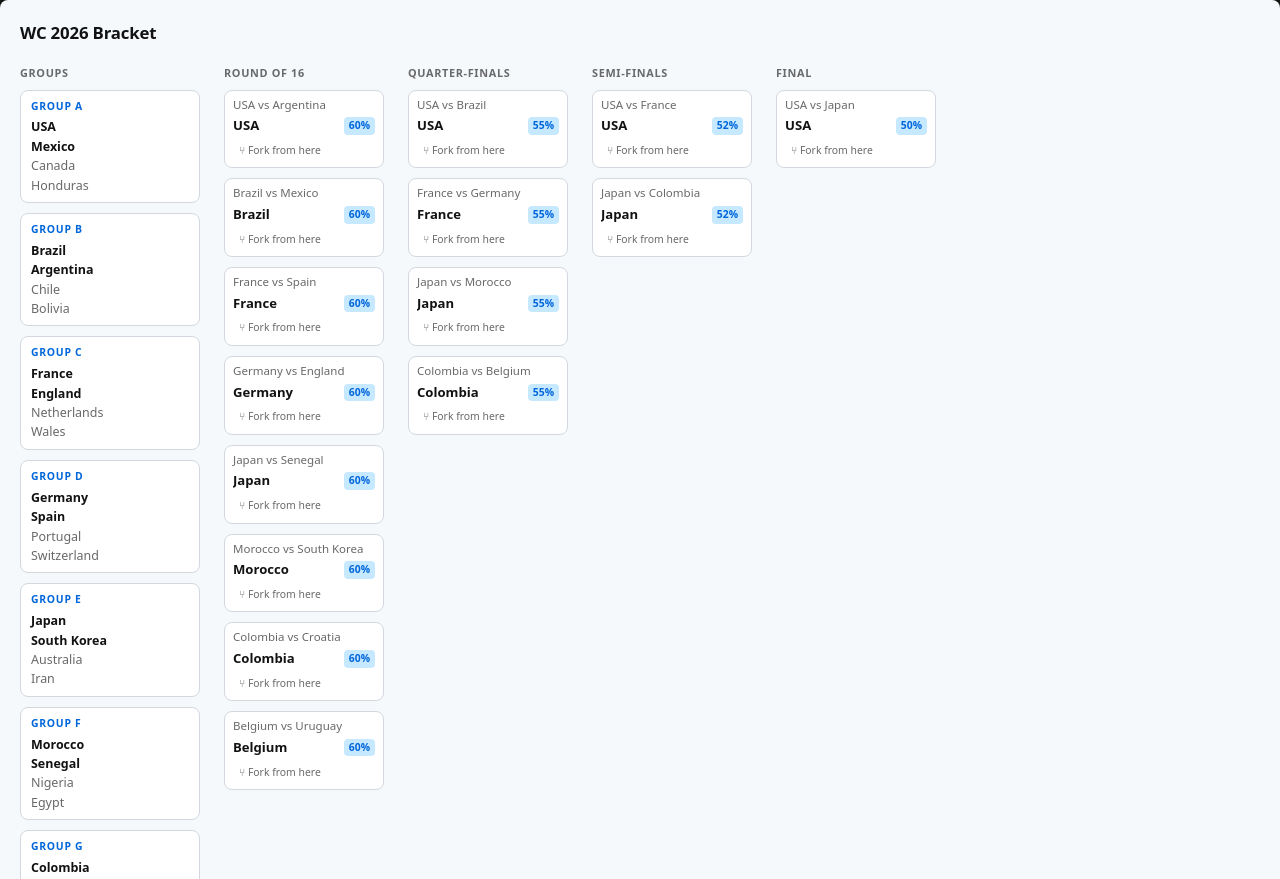
Test: BracketFork — override propagates downstream › updates QF slot teams when R16 winner is overridden
This screenshot has width=1280, height=879.
Click the button with aria-label "Fork from here: USA vs Argentina" at (280, 150), box [233,140,327,161]
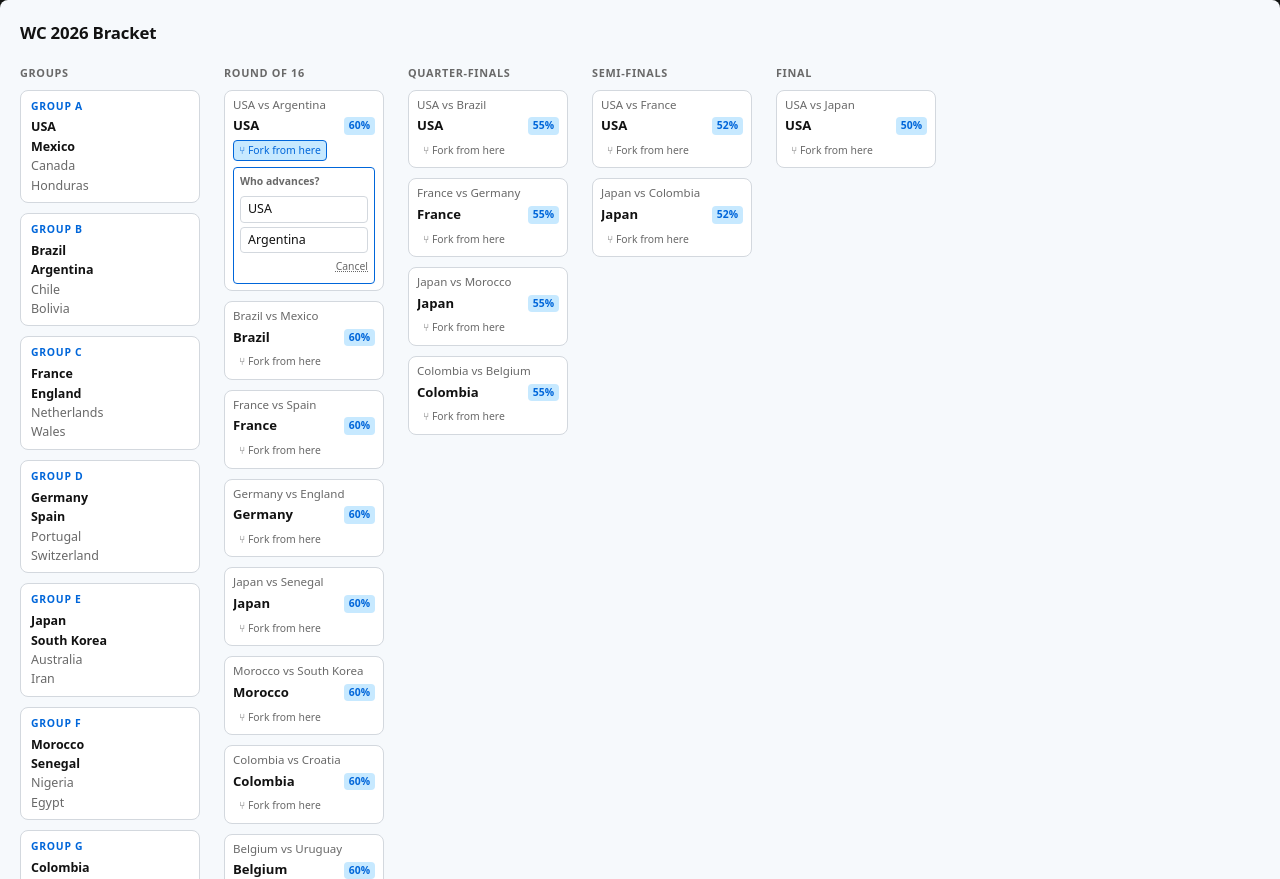
Click the button with test id "pick-r16:0-away" at (304, 240), box [240,227,368,253]
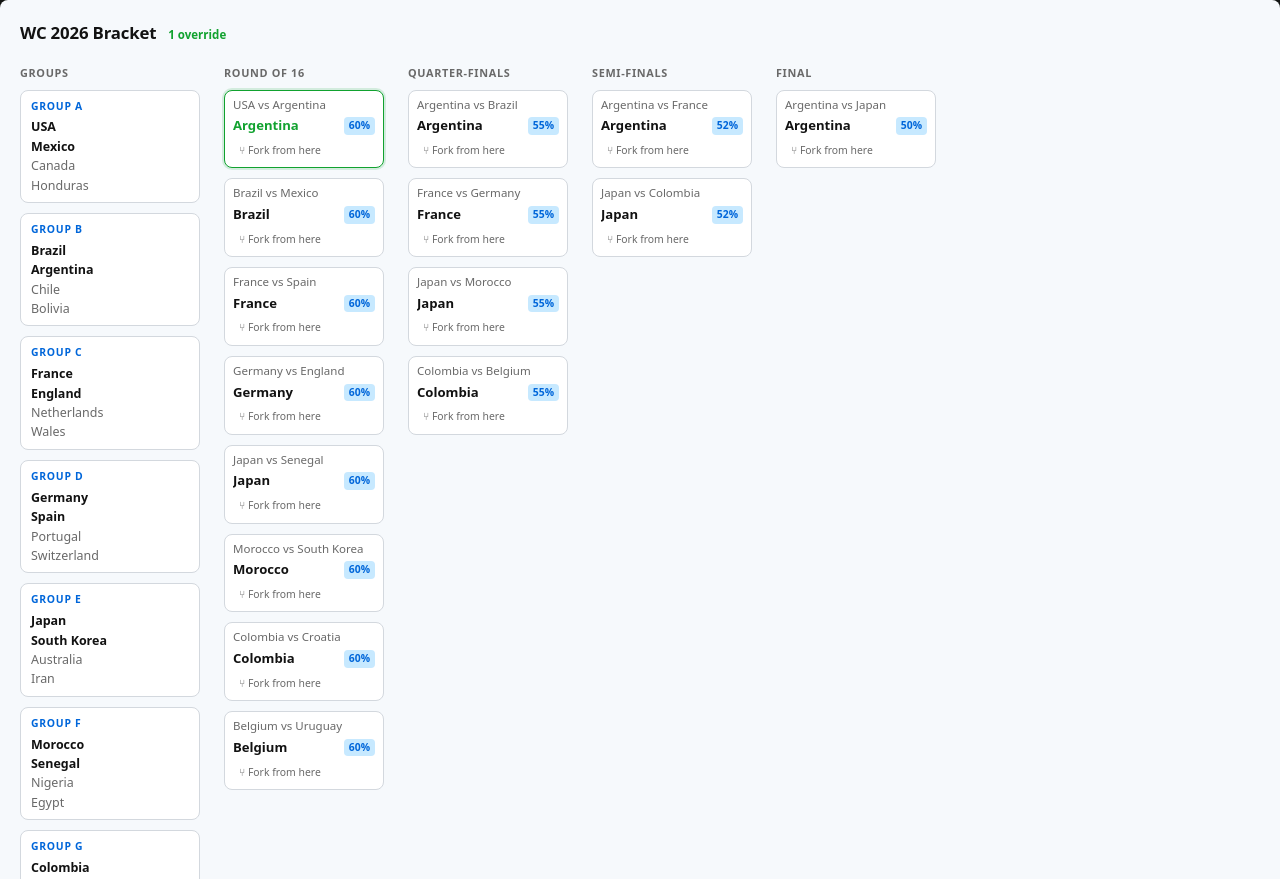
Expected: the list item with aria-label "Match: Argentina vs Brazil" is shown, [408,90,568,168]
